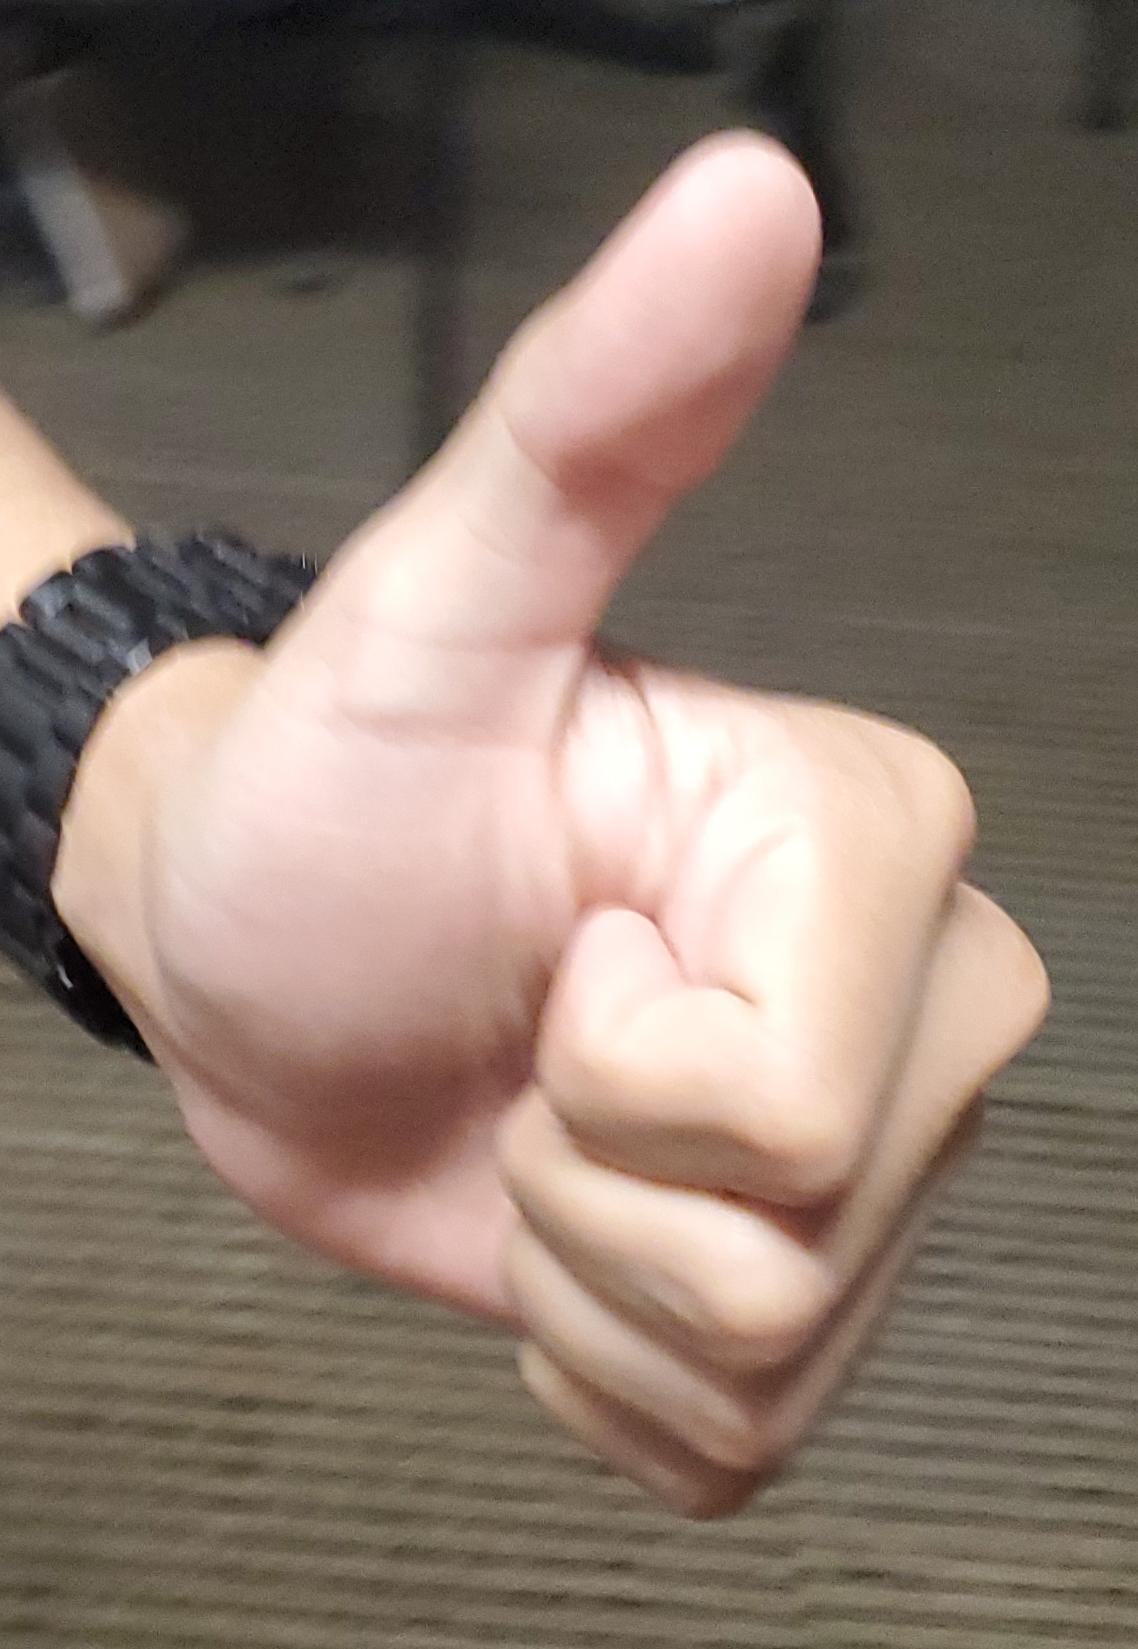up: (0, 1, 1138, 1649)
